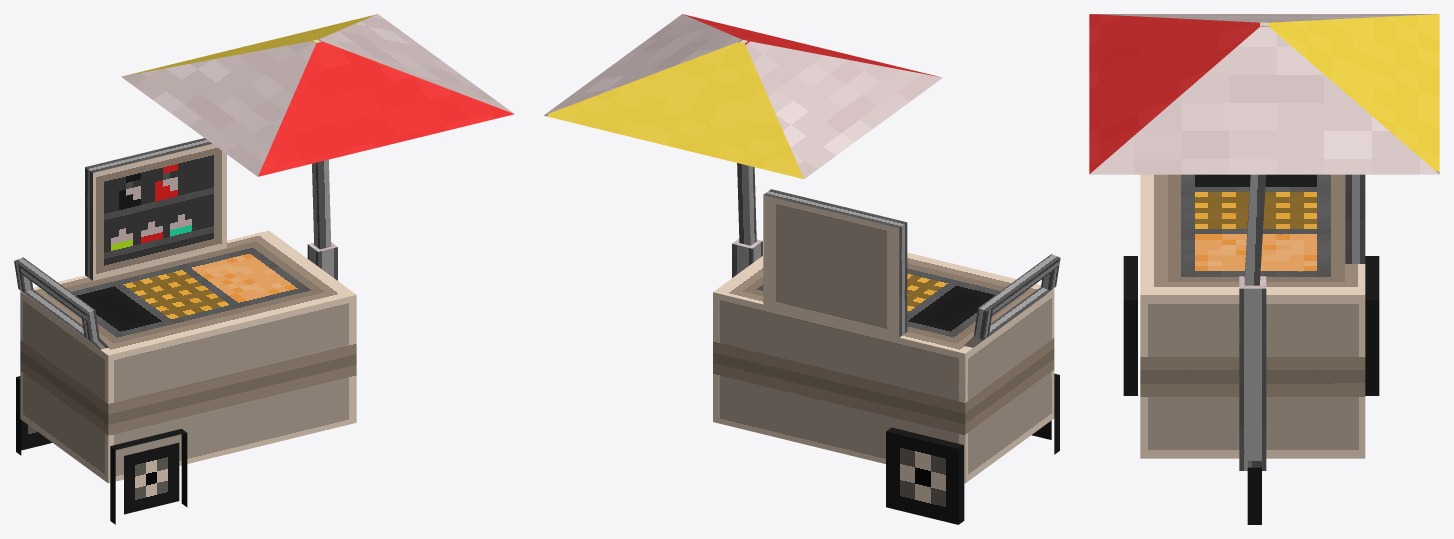
The model's file is BGN_ST SELLING CART.fbx.
3 views of the same model, side by side, from view 1: azimuth 30°, elevation 25°; view 2: azimuth 150°, elevation 25°; view 3: azimuth 270°, elevation 25° (orthographic). The views are drawn at different scales.
Visible parts, largest first — view 1: BGN_ST SELLING CART; view 2: BGN_ST SELLING CART; view 3: BGN_ST SELLING CART.
Part boxes in pixels (bbox=[...]): BGN_ST SELLING CART: bbox=[14, 14, 514, 524]; BGN_ST SELLING CART: bbox=[544, 14, 1060, 524]; BGN_ST SELLING CART: bbox=[1089, 14, 1439, 524].
Size of the model in its own units: 281 by 255 by 166.
1 material, 1 textured.
